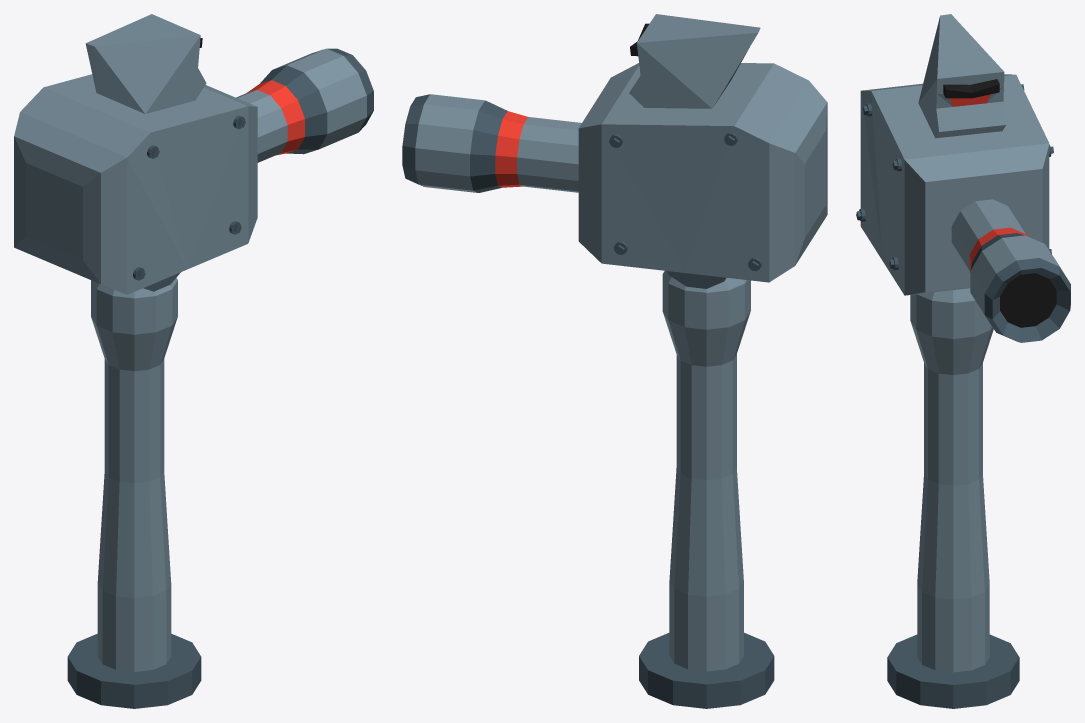
The model's file is DefenseTurret.glb.
3 views of the same model, side by side, from view 1: azimuth 30°, elevation 25°; view 2: azimuth 150°, elevation 25°; view 3: azimuth 270°, elevation 25° (orthographic). The views are drawn at different scales.
Visible parts, largest first — view 1: group2145190503, group1375185112, group1492855365; view 2: group2145190503, group1375185112, group1492855365; view 3: group2145190503, group1375185112, group1492855365.
Boxes of the visible parts, x1,y1,x2,y2 form: group2145190503: (14,14,373,294); group1375185112: (91,278,177,671); group1492855365: (67,633,201,708); group2145190503: (402,14,827,288); group1375185112: (662,271,750,671); group1492855365: (639,632,774,708); group2145190503: (860,14,1070,342); group1375185112: (910,288,993,672); group1492855365: (887,634,1019,708).
Bounding box in the file's own units: 1.26 × 2.15 × 0.6504.
